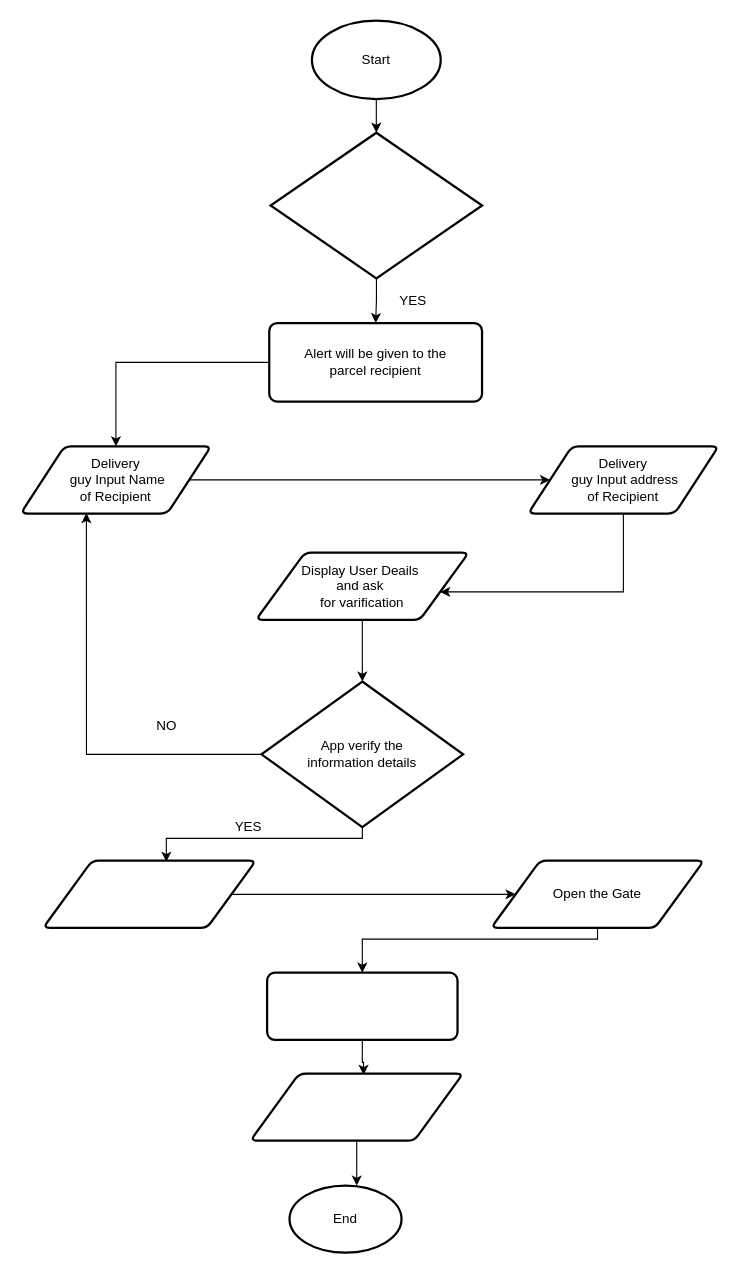
This 739x1272 diagram has some shape labels left out. The box of each missing label's shape, as (x1, y1, x2, y2) in pixels:
Accept Parcel: (265, 971, 458, 1040)
Detects the delivery guy at the gate: (269, 131, 483, 279)
Display Successfully varified: (41, 859, 256, 928)
Display Thanks Message: (249, 1072, 464, 1141)
